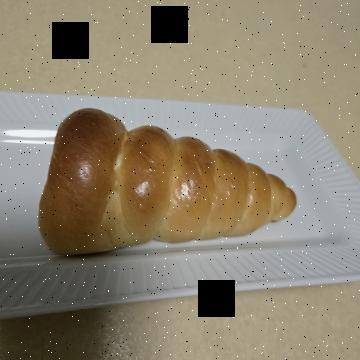cream horn: (77, 46, 286, 329)
